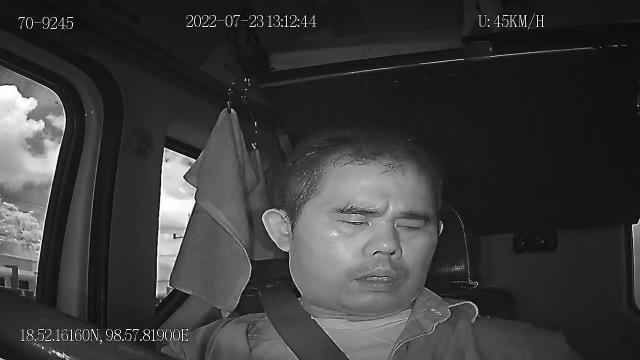Seatbelt: (255, 284, 352, 360)
